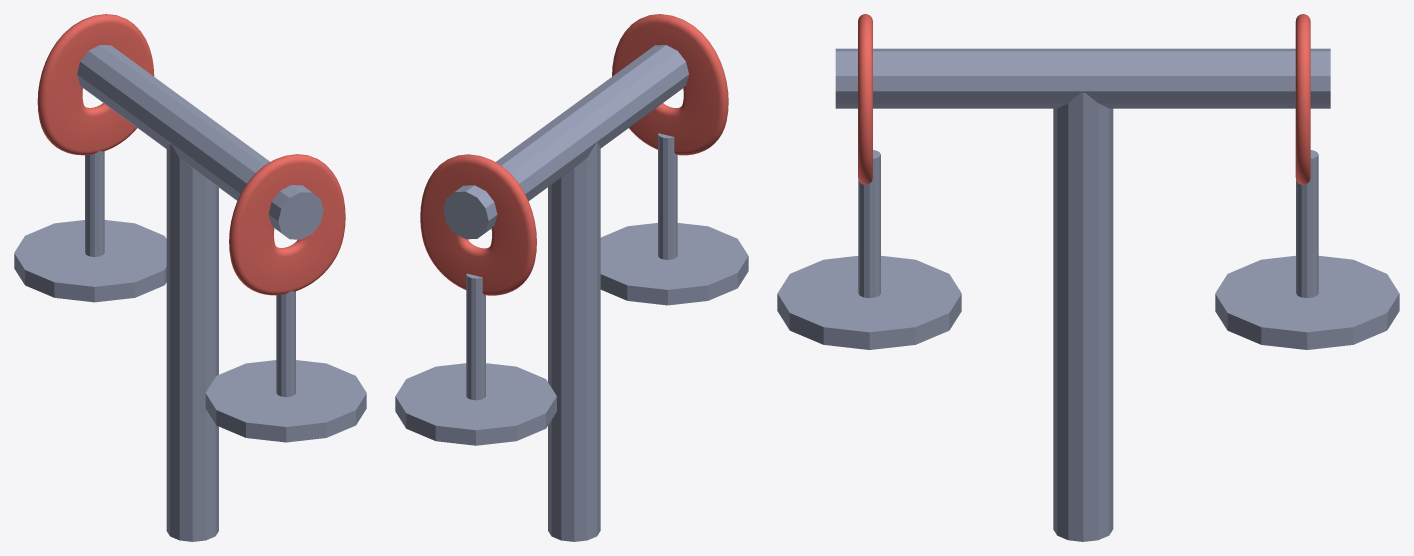
File: Balança.fbx
3 renders of one model, left to right at view 1: azimuth 30°, elevation 25°; view 2: azimuth 150°, elevation 25°; view 3: azimuth 270°, elevation 25°, orthographic. The views are drawn at different scales.
Parts seen in each view (by area): view 1: BézierCircle.001; view 2: BézierCircle.001; view 3: BézierCircle.001.
Boxes of the visible parts, x1,y1,x2,y2 form: BézierCircle.001: [14, 14, 366, 541]; BézierCircle.001: [395, 14, 748, 541]; BézierCircle.001: [777, 14, 1399, 541].
Bounding box in the file's own units: 210 × 639 × 708.
